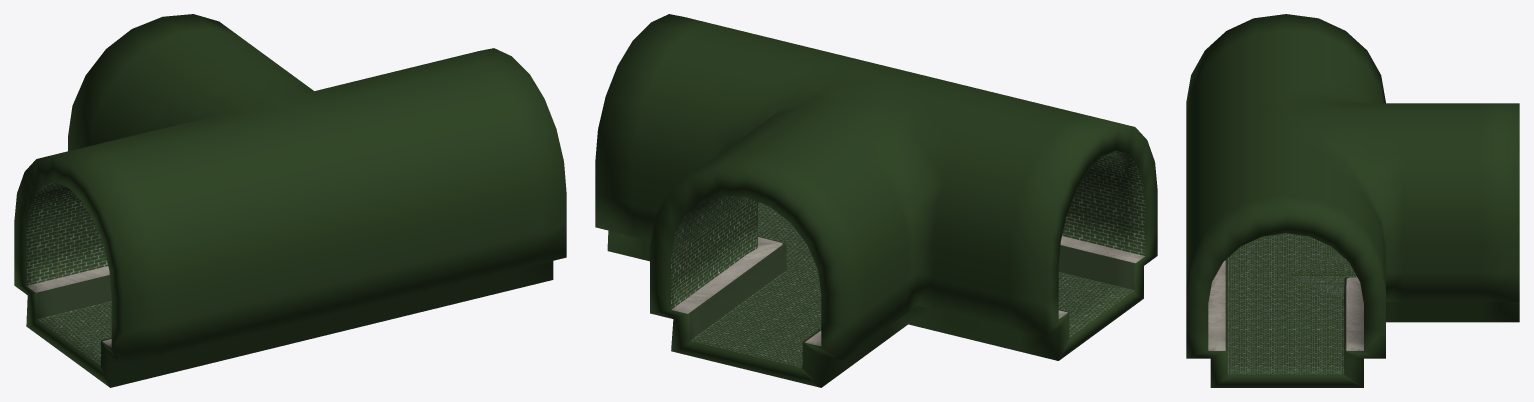
The model's file is SewerModule_Split_1_001.fbx.
3 views of the same model, side by side, from view 1: azimuth 30°, elevation 25°; view 2: azimuth 150°, elevation 25°; view 3: azimuth 270°, elevation 25° (orthographic). The views are drawn at different scales.
Visible parts, largest first — view 1: Module_Split_1_001; view 2: Module_Split_1_001; view 3: Module_Split_1_001.
Boxes of the visible parts, x1=… form: Module_Split_1_001: x1=14, y1=14, x2=566, y2=387; Module_Split_1_001: x1=595, y1=14, x2=1157, y2=387; Module_Split_1_001: x1=1186, y1=14, x2=1519, y2=387.
Size of the model in its own units: 2400 by 1001 by 1713.
